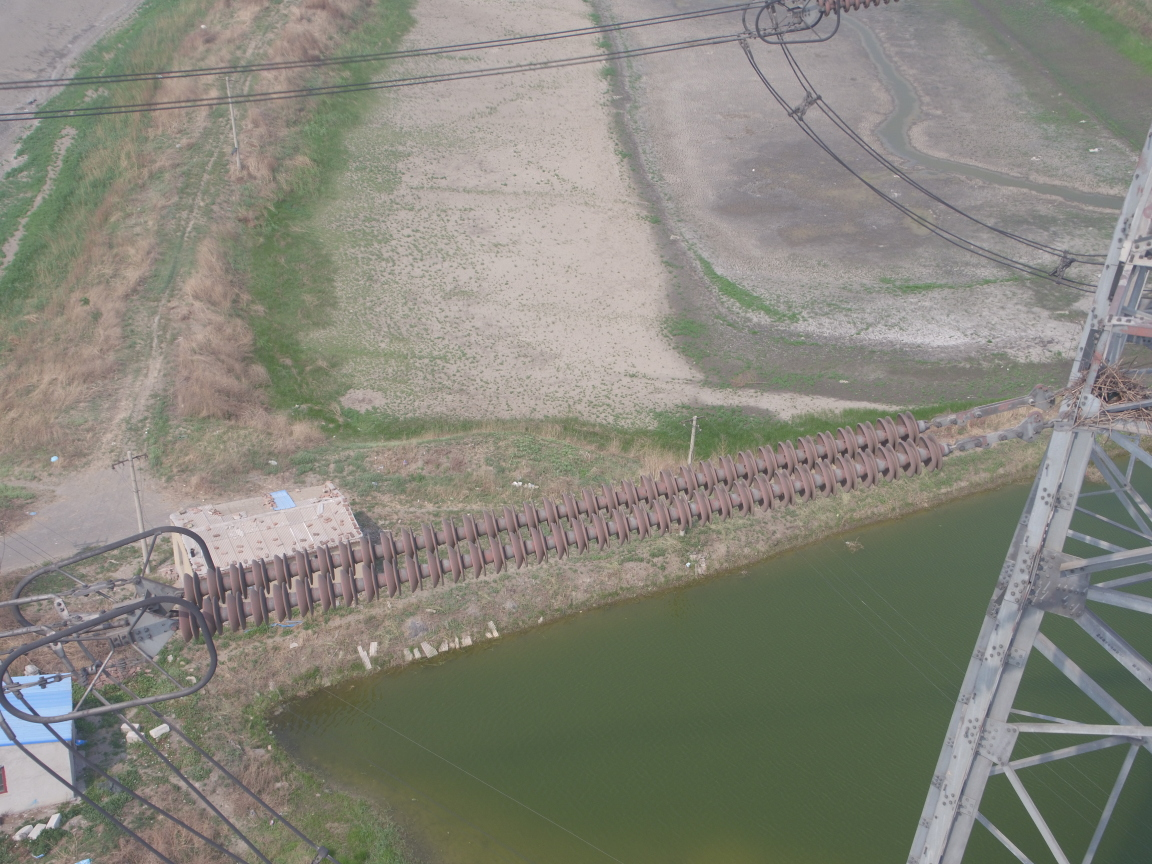insulator: (162, 403, 994, 648)
